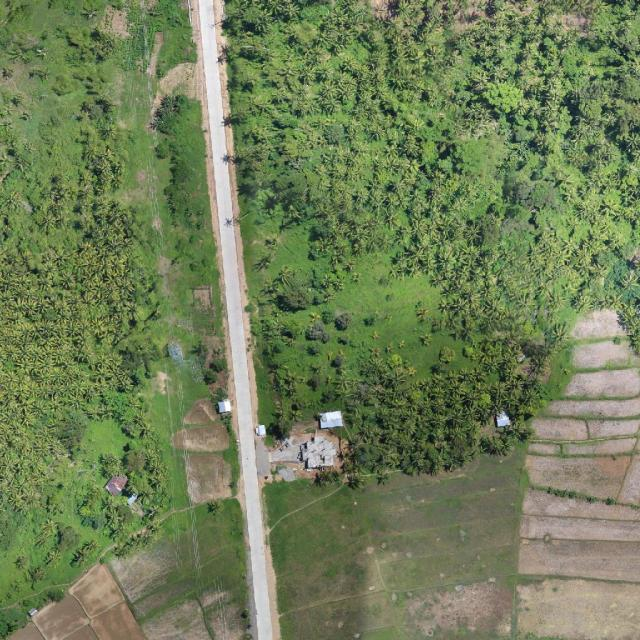agricultural_land: (8, 499, 249, 639)
building: (294, 431, 341, 475), (318, 411, 343, 429), (217, 398, 232, 414)
greenland: (164, 394, 246, 508), (256, 360, 295, 481), (188, 452, 232, 504), (190, 431, 221, 449)
